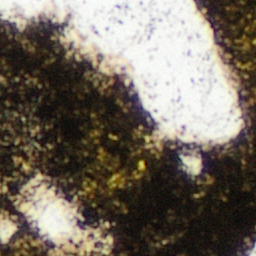cement_matrix: (0, 0, 255, 255), (181, 150, 202, 175)
gravel_crushed_stones: (0, 0, 244, 147), (17, 175, 110, 255), (182, 151, 201, 174), (0, 214, 16, 241), (246, 242, 255, 255)
